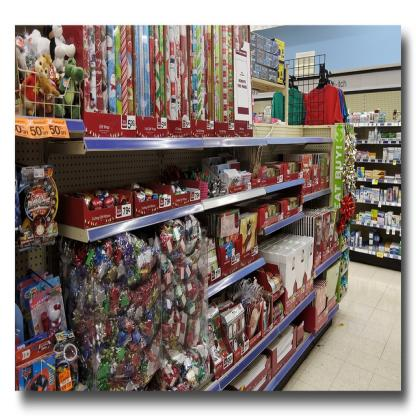book: (258, 230, 315, 318), (278, 204, 341, 271), (200, 204, 240, 262), (202, 152, 252, 188), (282, 154, 312, 198), (320, 257, 340, 303), (239, 207, 258, 255), (308, 276, 328, 319), (200, 233, 218, 277), (301, 152, 330, 178)
